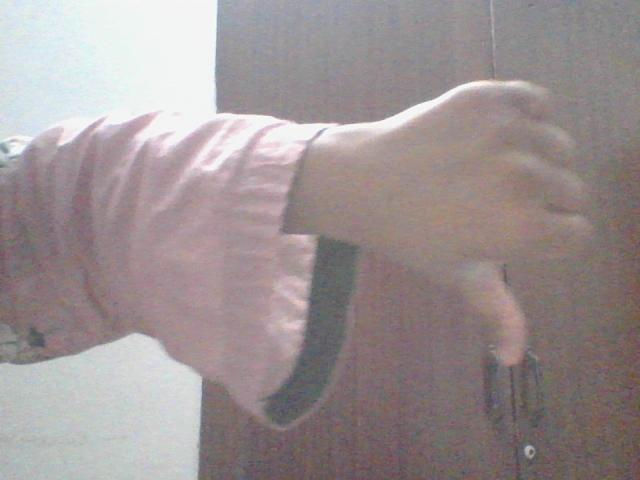thumbs-down: (396, 77, 594, 369)
